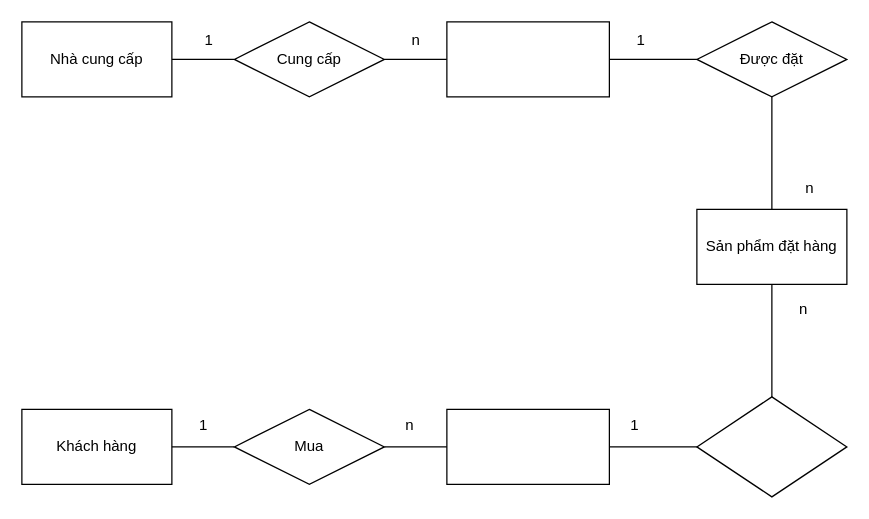
The diagram is 869 pixels wide and 519 high, and some of its shapes have lost their labels. Each missing label, with the centre of its shape:
Hình thành: the point at 771,446
Sản phẩm: the point at 527,59
Đơn hàng: the point at 527,446
